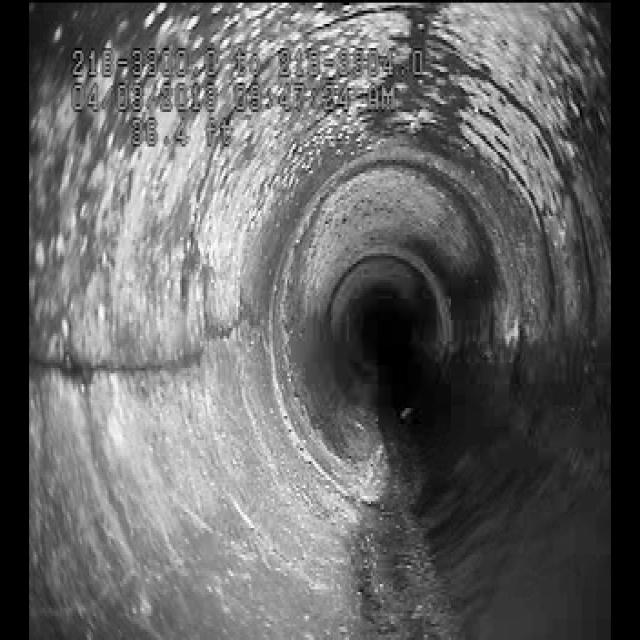Crack: (38, 279, 264, 413)
